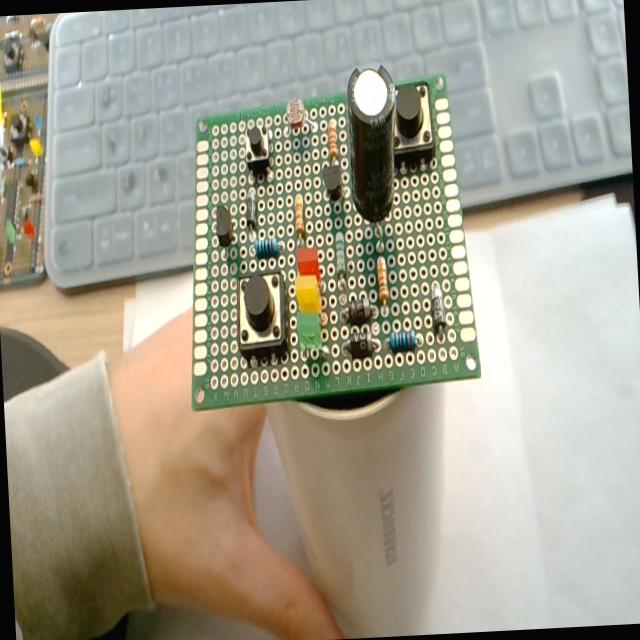Electrolytic capacitor: (343, 62, 402, 226)
cds: (283, 98, 311, 146)
diode: (429, 282, 446, 334), (349, 327, 374, 360), (349, 296, 372, 326), (245, 189, 258, 232)
led: (296, 310, 324, 356), (294, 272, 322, 314), (296, 246, 321, 286)
resistor: (388, 328, 418, 354), (254, 234, 278, 258), (334, 231, 346, 279), (376, 258, 389, 302), (327, 119, 338, 161), (294, 193, 304, 236)
switch: (233, 269, 290, 358), (390, 81, 436, 168), (244, 124, 272, 176)
transistor: (214, 205, 236, 247), (322, 163, 342, 202)
